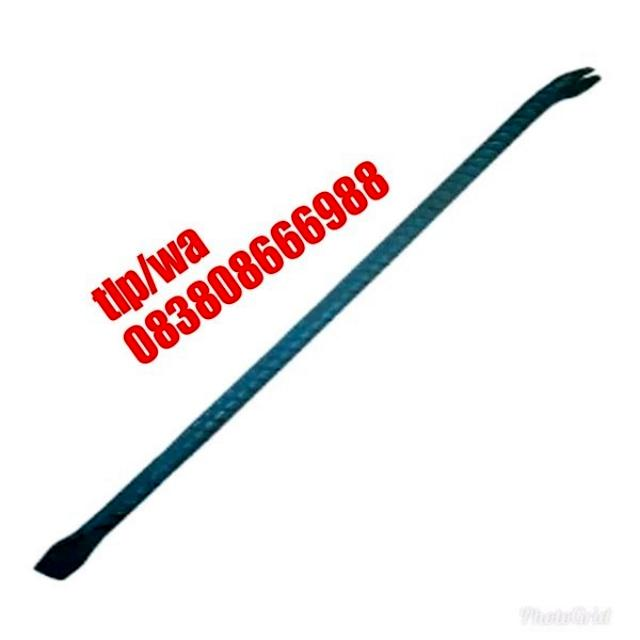crow bar: (30, 52, 606, 593)
